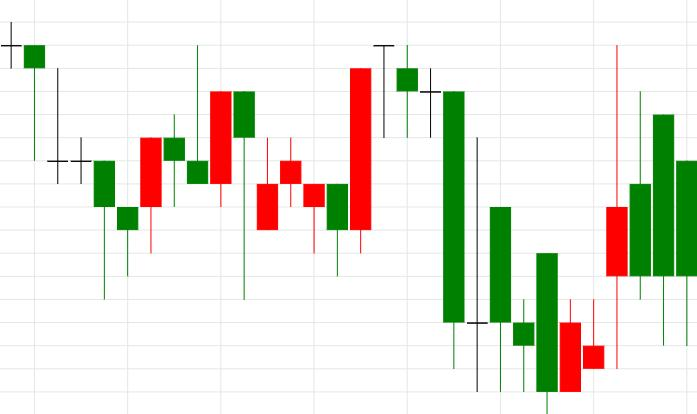hammer_rise: (2, 22, 138, 299)
